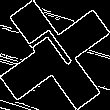L_SE: (28, 25, 82, 85)
